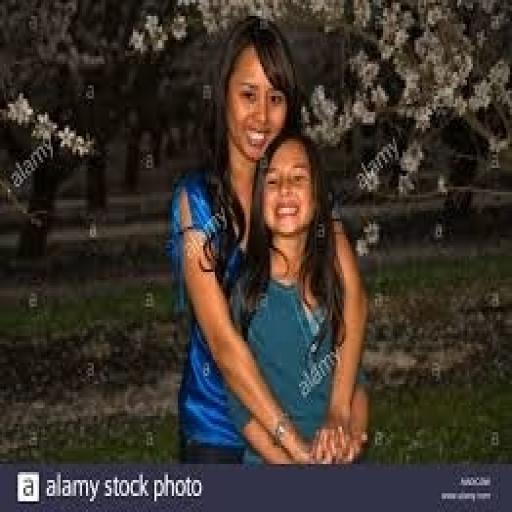hugging: (166, 13, 373, 467)
